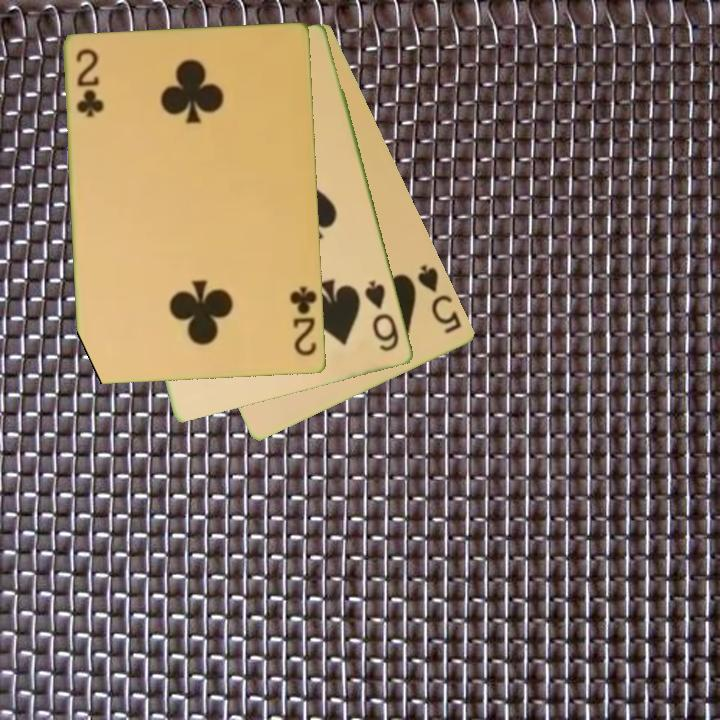2c: (287, 283, 320, 359), (73, 45, 104, 120)
5s: (414, 261, 466, 337)
6s: (361, 277, 403, 355)
